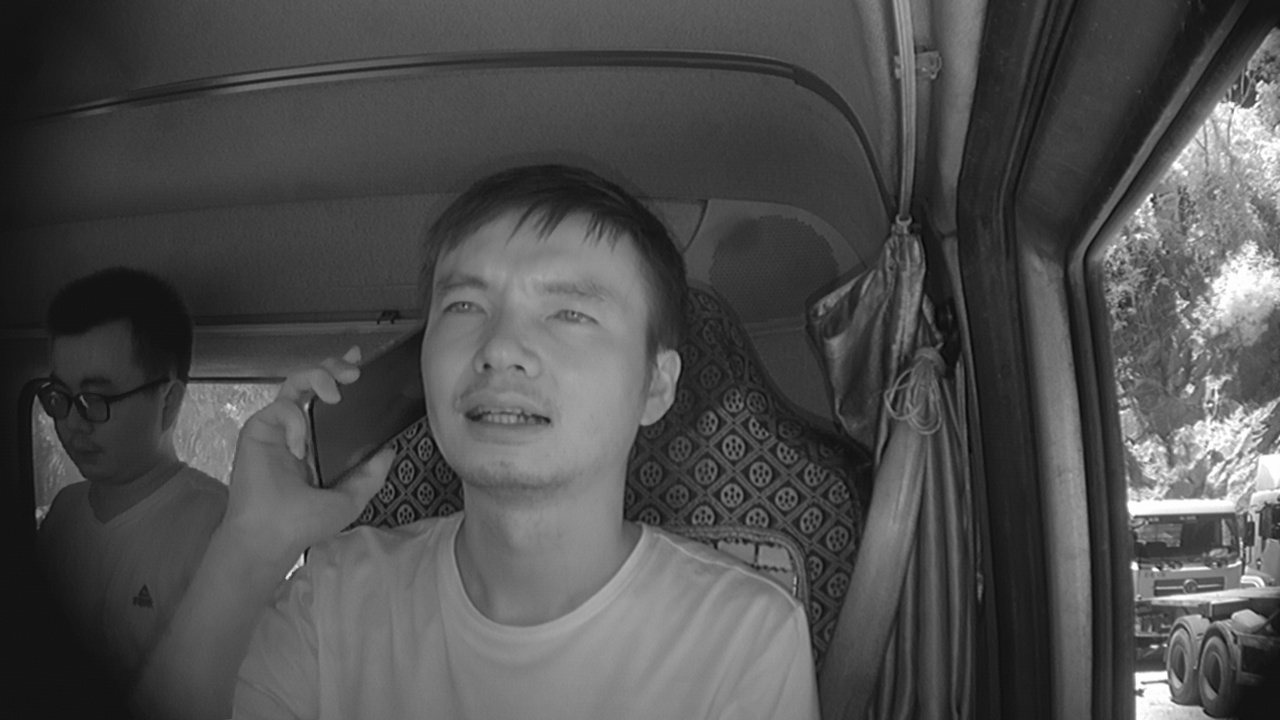hand: (239, 347, 394, 549)
